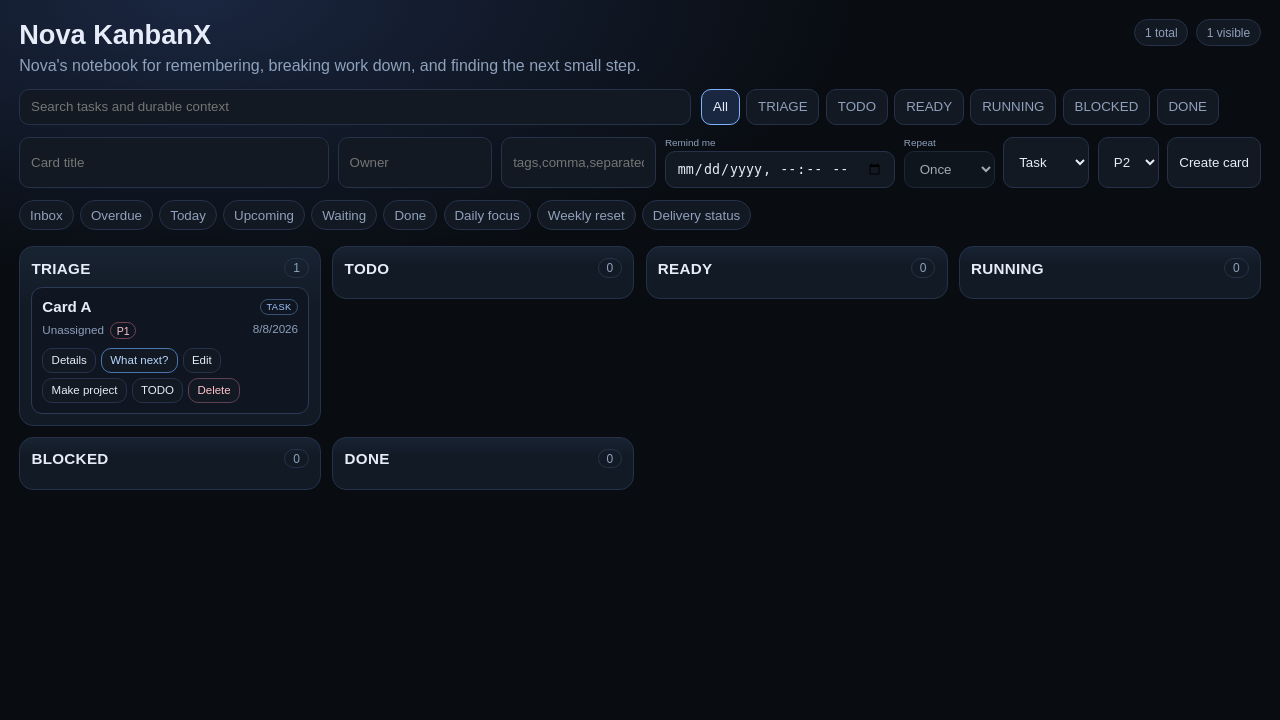
Test case: App optimistic behavior › shows durable task context and event history on demand
Expected: the heading "Card A" is shown, top-left (42, 298), bottom-right (92, 315)
Expected: the text "P1" is shown, top-left (110, 322), bottom-right (136, 339)
Click the button "Details".
click(69, 360)  # box top-left (42, 348), bottom-right (96, 373)
(page scrolled)
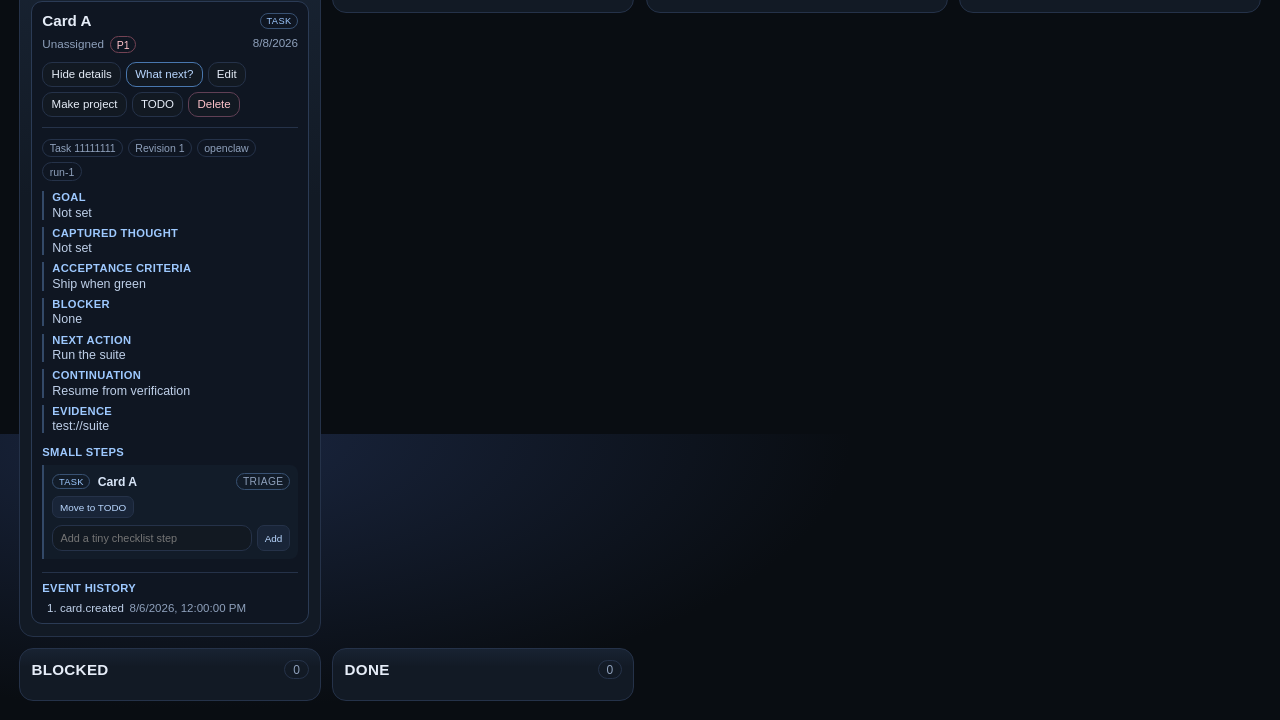
Now the text "Ship when green" is shown, box top-left (52, 277), bottom-right (146, 291)
Now the text "Run the suite" is shown, box top-left (52, 348), bottom-right (126, 362)
Now the text "Resume from verification" is shown, box top-left (52, 384), bottom-right (190, 398)
